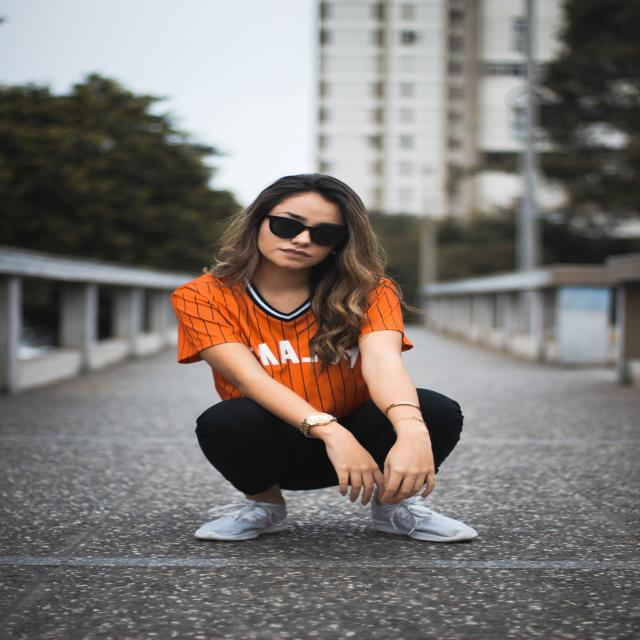adult: (170, 163, 491, 573)
